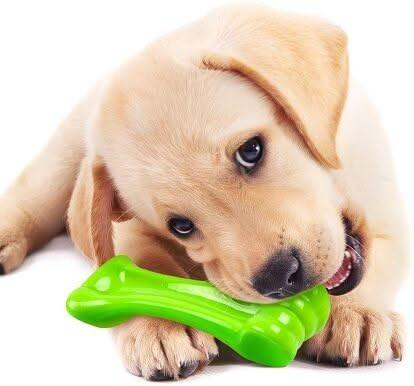puppy-dog: (0, 0, 413, 378)
